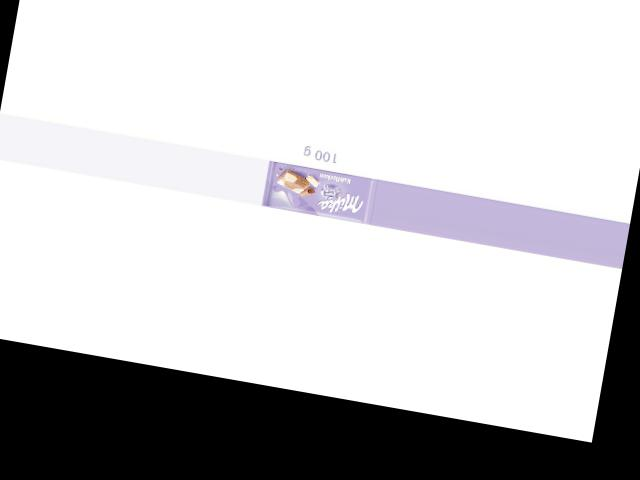chocolate: (260, 153, 379, 226)
